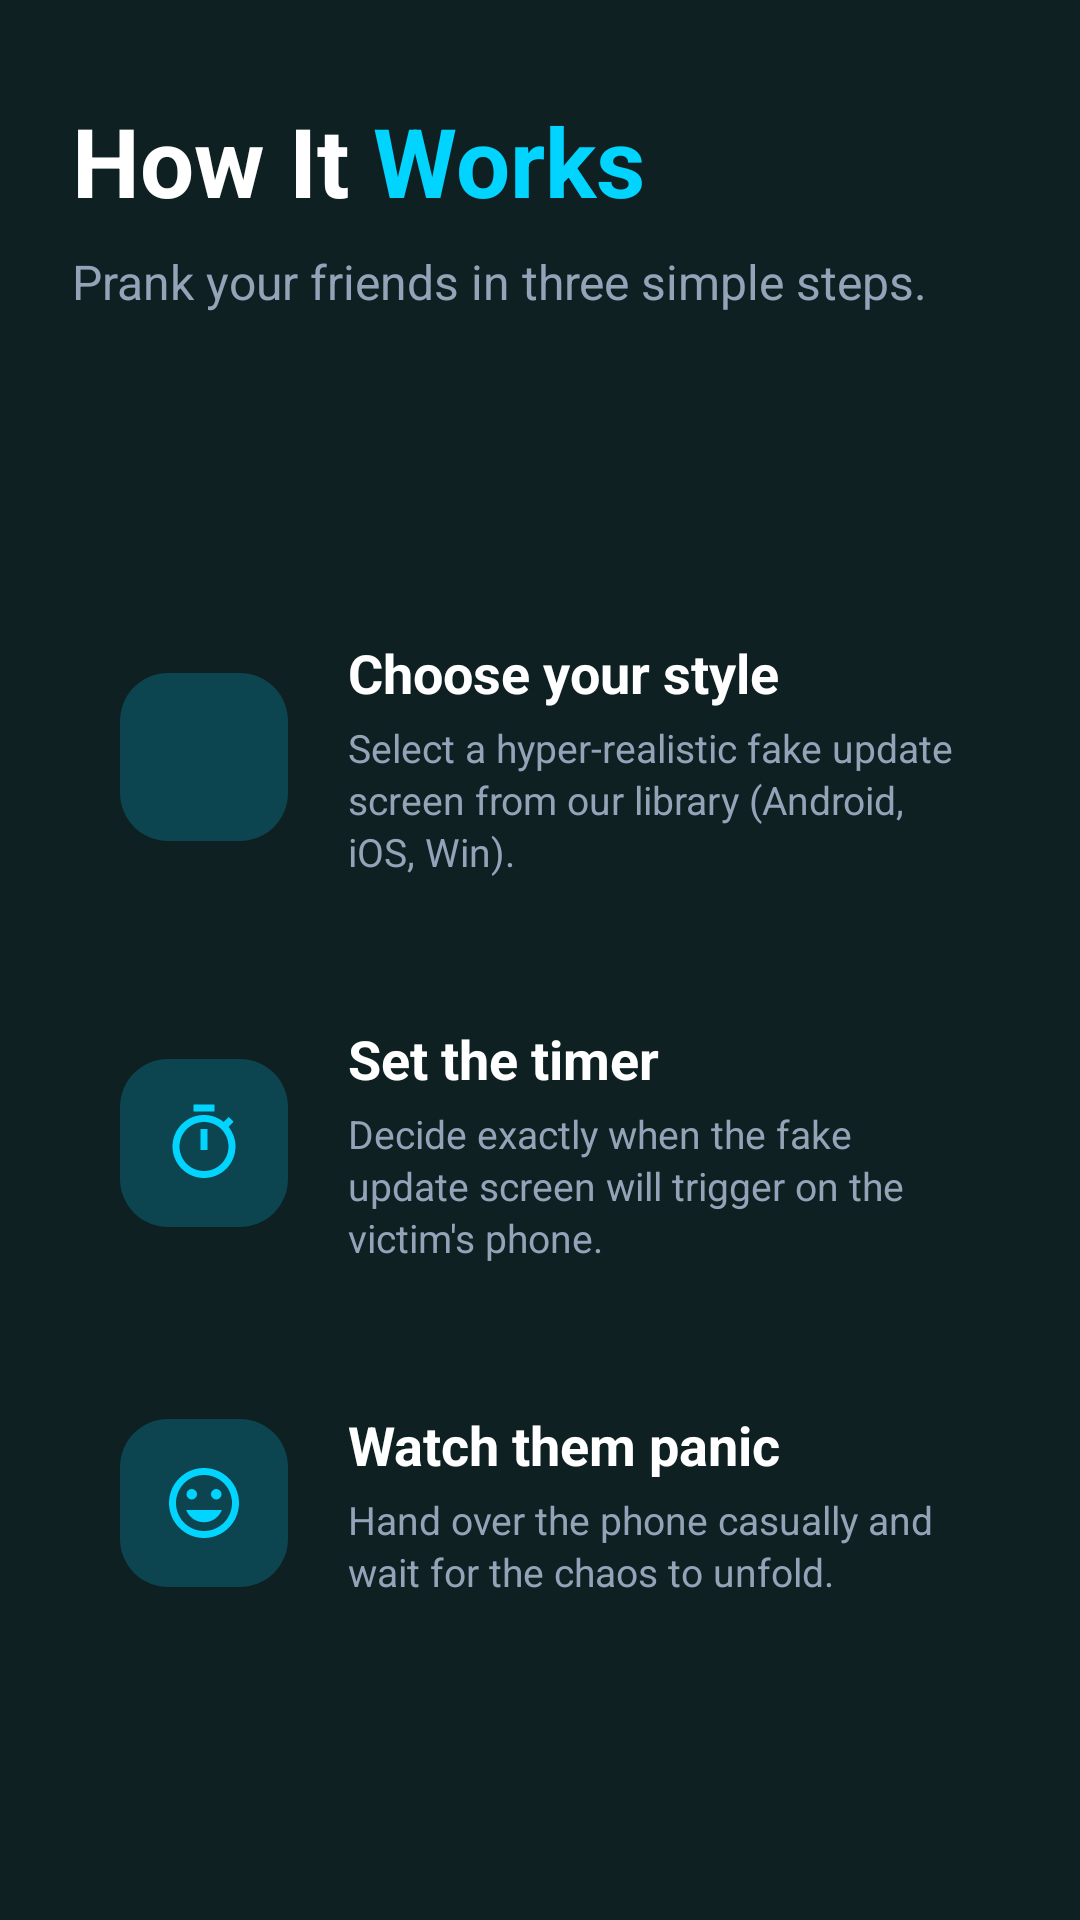

Screen size 1080×1920. Icon name, then its box in pixels as (x1, y1, x2, y2):
sentiment satisfied: (169, 1468, 239, 1538)
